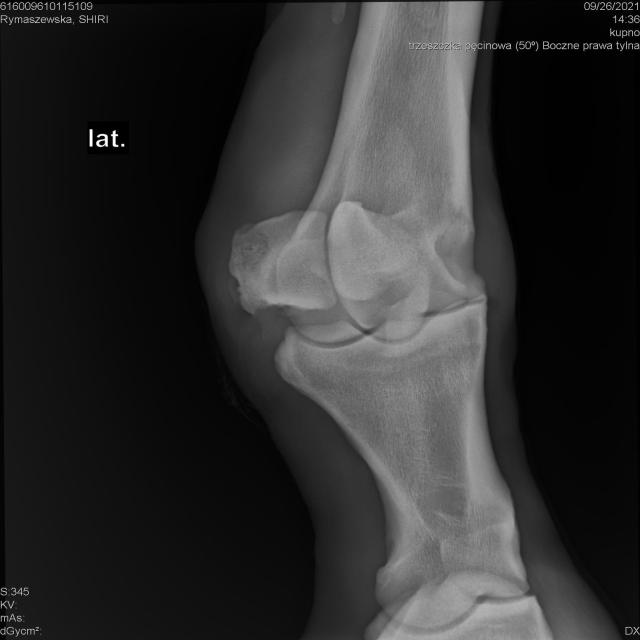bone remodeling: (420, 219, 542, 365), (200, 261, 349, 364)
